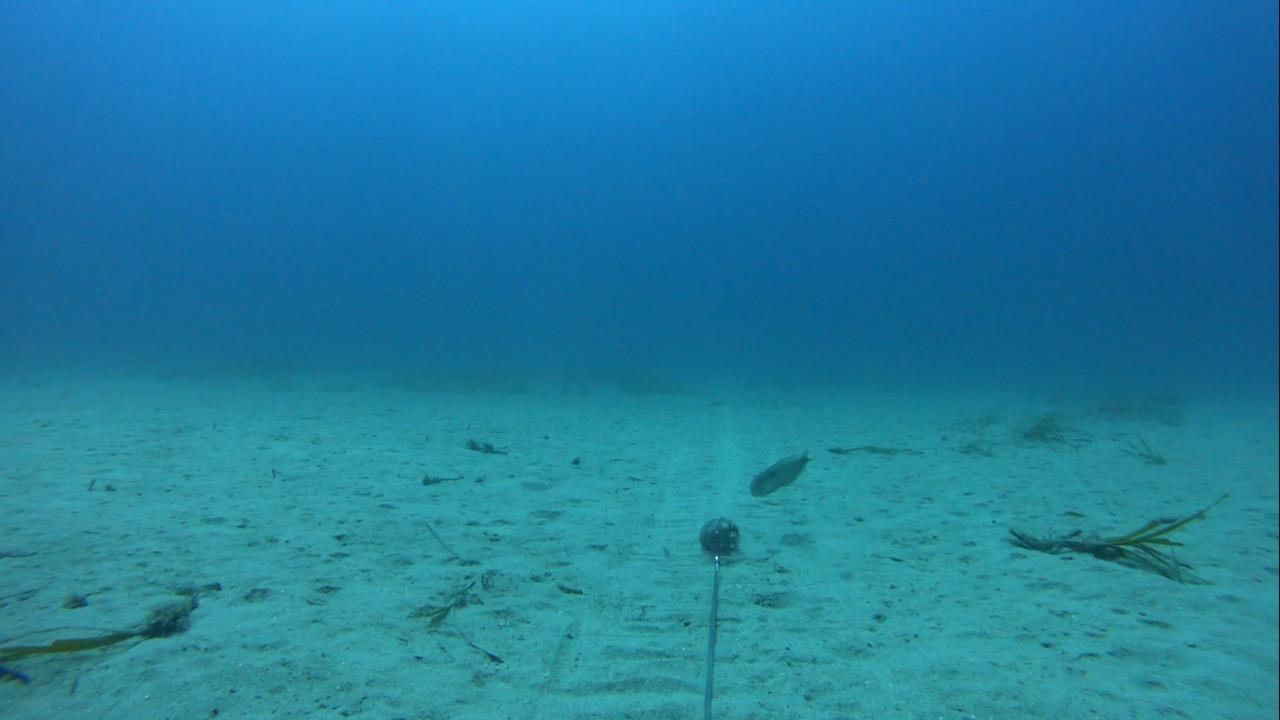raor: (746, 446, 815, 499)
